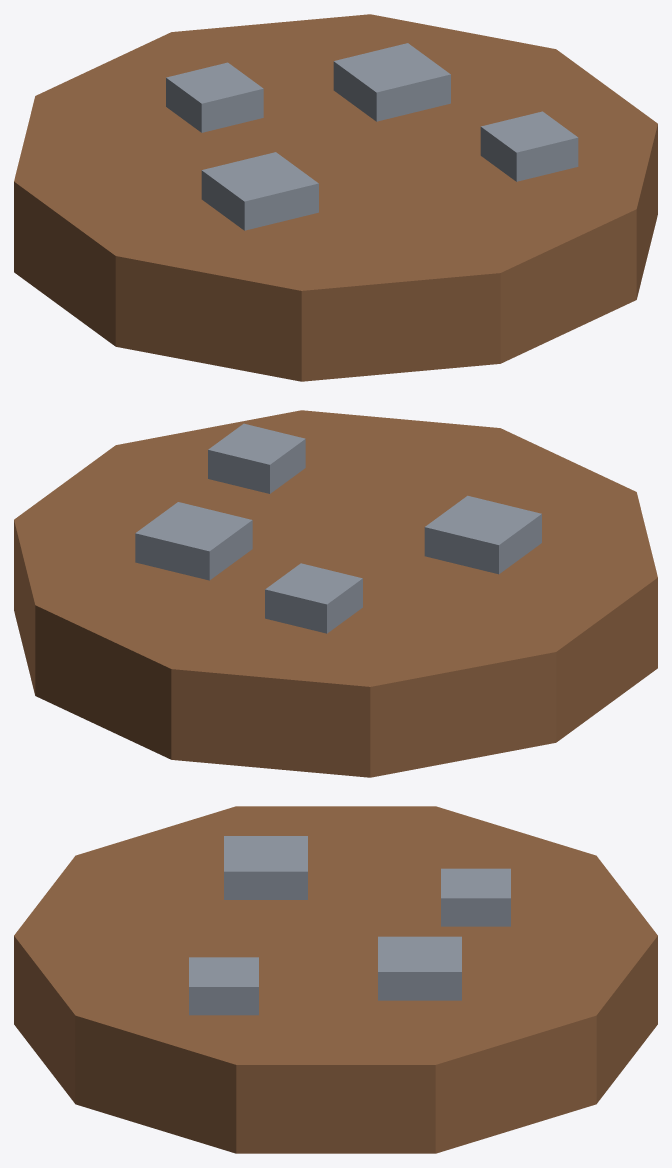
Rendered from cookie.fbx.
3 views of the same model, one above another, from view 1: azimuth 30°, elevation 25°; view 2: azimuth 150°, elevation 25°; view 3: azimuth 270°, elevation 25° (orthographic). The views are drawn at different scales.
Visible parts, largest first — view 1: cookie; view 2: cookie; view 3: cookie.
Part boxes in pixels (x1,y1,x2,y2): cookie: (14, 14, 657, 381); cookie: (14, 410, 657, 777); cookie: (14, 806, 657, 1153).
Bounding box in the file's own units: 85.6 × 18.1 × 90.
